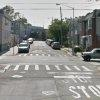Car: (15, 34, 34, 55)
